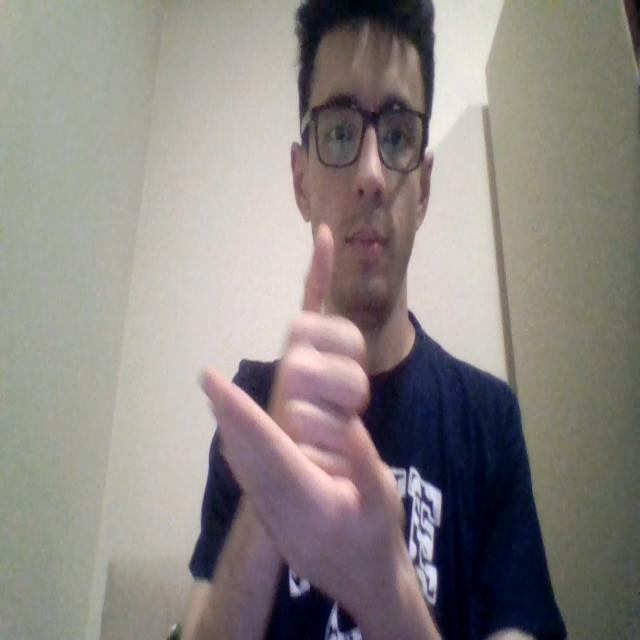help: (193, 219, 406, 583)
